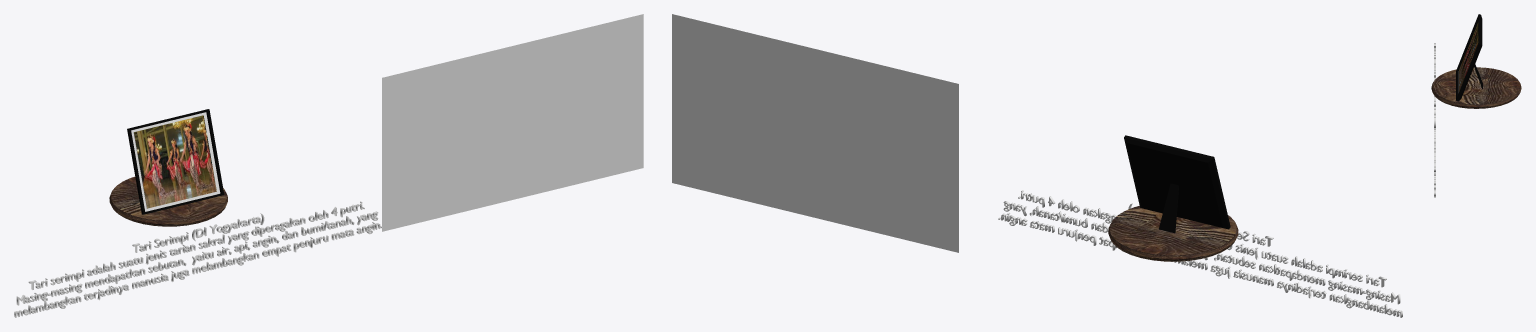
File: 16. Tari Serimpi (Yogyakarta).fbx
3 renders of one model, left to right at view 1: azimuth 30°, elevation 25°; view 2: azimuth 150°, elevation 25°; view 3: azimuth 270°, elevation 25°, orthographic. The views are drawn at different scales.
Parts seen in each view (by area): view 1: Plane, Cube.034, Text; view 2: Plane, Cube.034, Text; view 3: Cube.034, Text.
Part boxes in pixels (<box>): Plane: <box>382,14,643,231</box>; Cube.034: <box>109,109,227,226</box>; Text: <box>14,201,382,317</box>; Plane: <box>672,14,958,252</box>; Cube.034: <box>1108,135,1238,261</box>; Text: <box>998,190,1402,317</box>; Cube.034: <box>1431,14,1521,108</box>; Text: <box>1434,43,1435,197</box>.
Bounding box in the file's own units: 7914 × 1806 × 1260.
6 materials, 3 textured.
